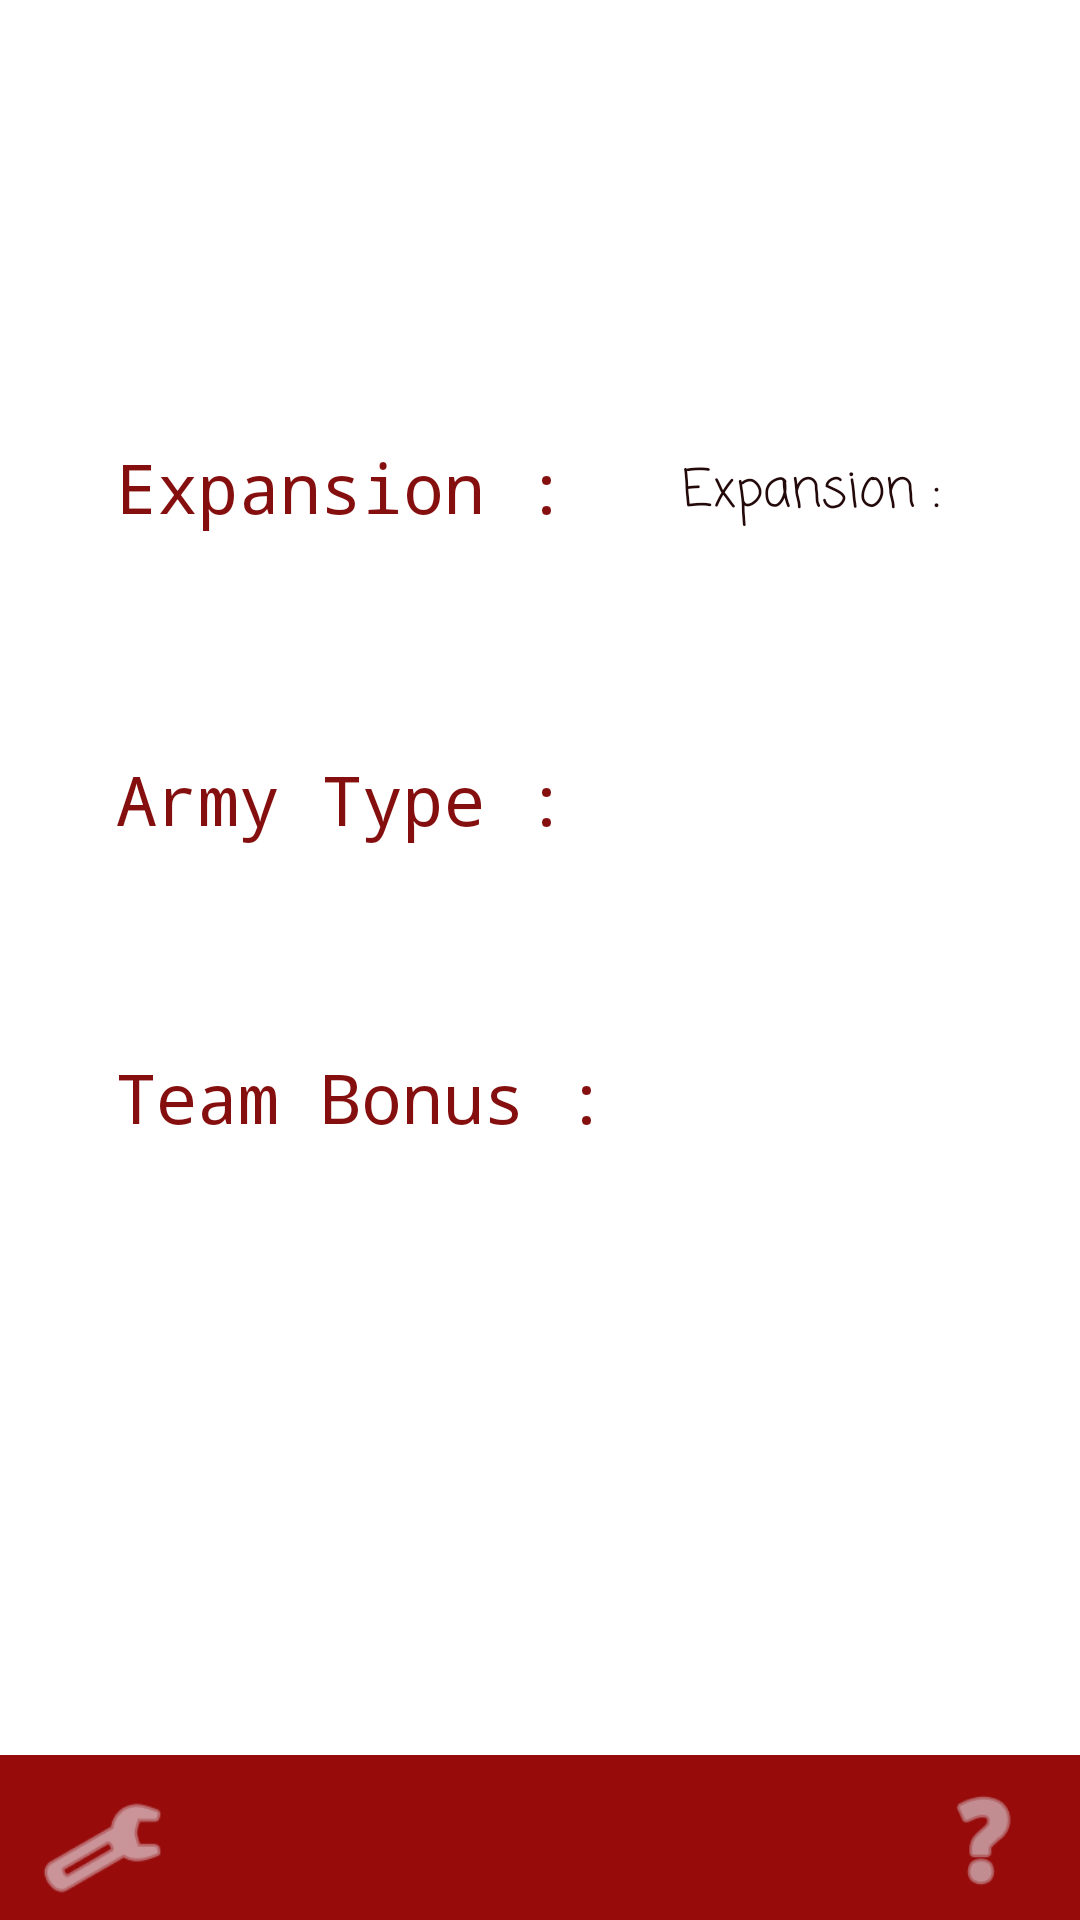

Named icons in this screenshot (1080x1920) and their bounding boxes, (x1,y1,x2,y2):
help: (957,1796,1011,1885)
manage: (44,1804,161,1892)
